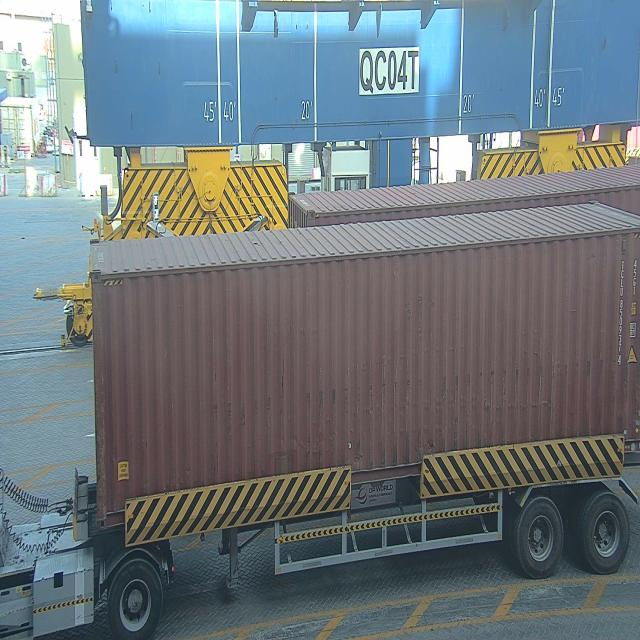dent: (278, 342, 289, 424)
